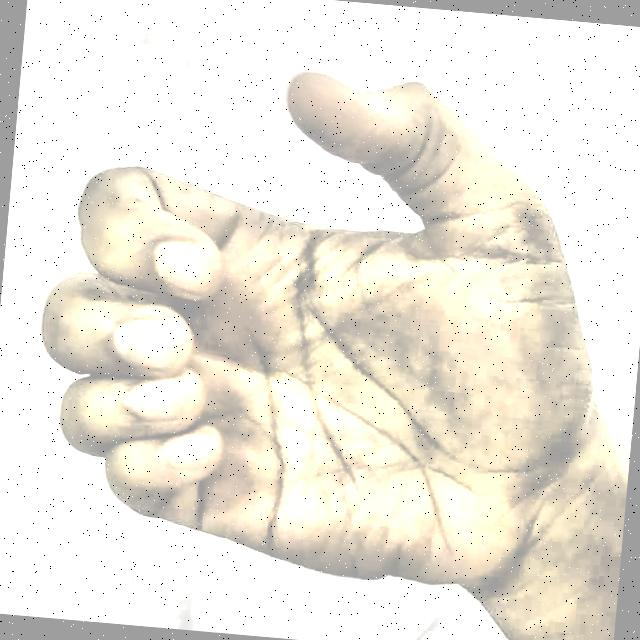Dho: (1, 26, 640, 632)
